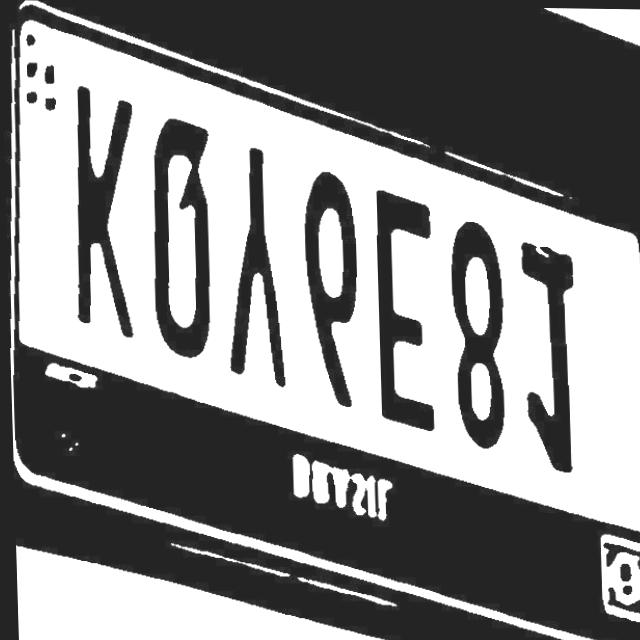1: (518, 230, 585, 479)
6: (303, 164, 363, 424)
8: (441, 214, 515, 453)
e: (367, 188, 444, 450)
k: (62, 87, 143, 341)
q: (151, 117, 214, 375)
y: (226, 147, 288, 409)
